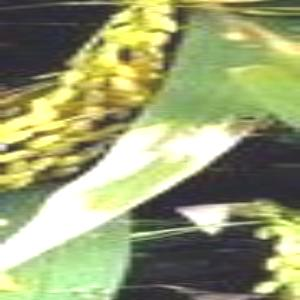2 BacterialBlight: (77, 119, 229, 208)
